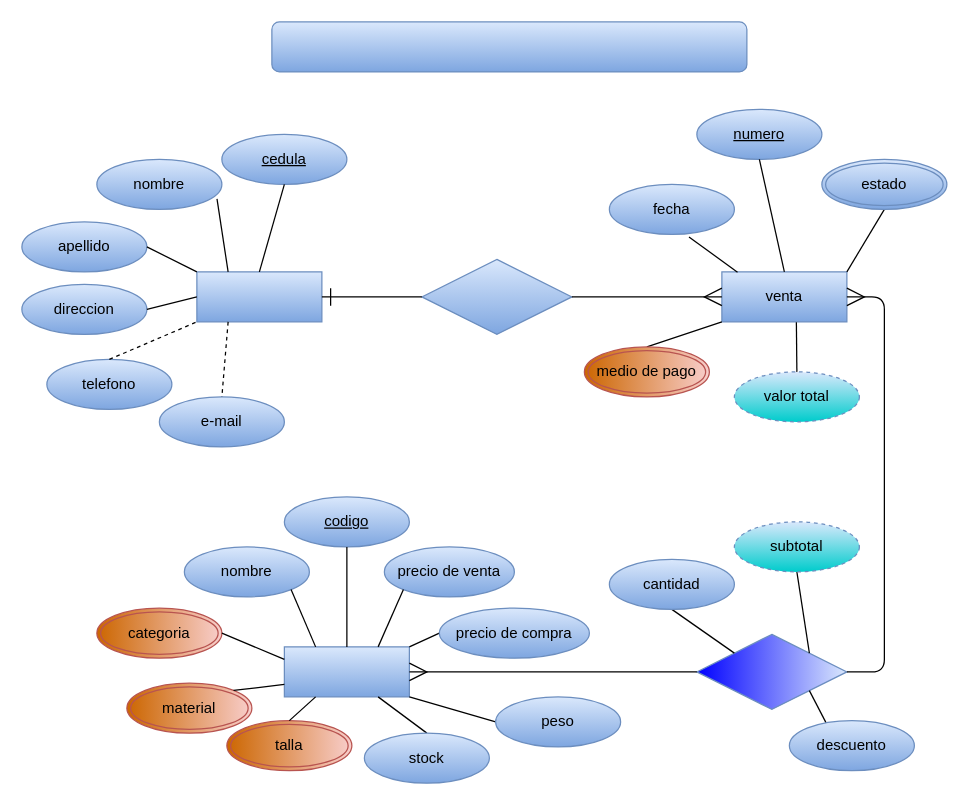
The diagram is 969 pixels wide and 805 high, and some of its shapes have lost their labels. The shapes that lost their labels are listed below. From the top down, each one's box as (x1, y1, x2, y2) in pixels, then its label:
(271, 21, 747, 72): MODELO CONCEPTUAL - TIENDA DE BISUTERIA
(196, 271, 322, 322): cliente
(421, 258, 572, 334): genera
(283, 646, 409, 697): producto
(696, 633, 847, 709): contiene
